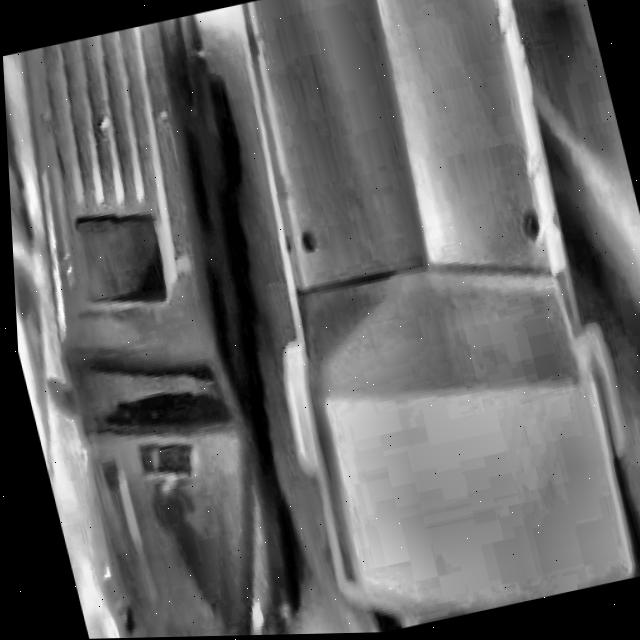dump_truck: (199, 0, 640, 637)
light_vehicle: (1, 17, 324, 640)
